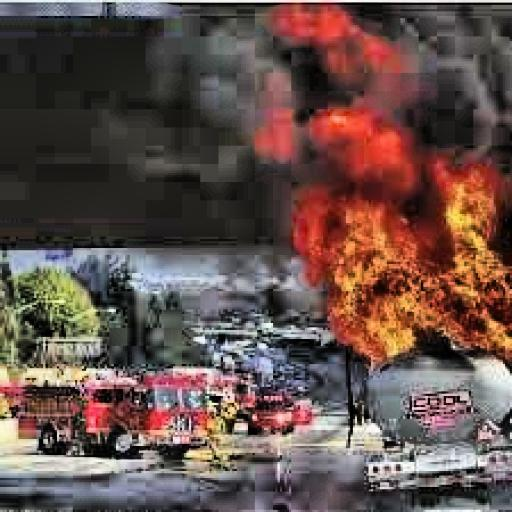fire: (282, 112, 510, 364)
